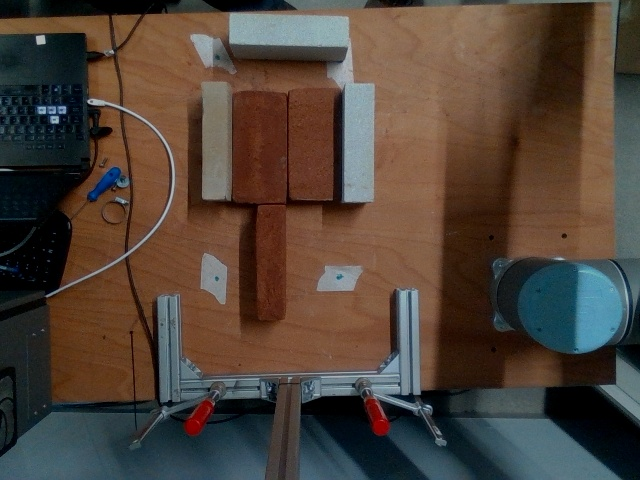brick: (288, 90, 340, 198), (233, 92, 283, 199)
brick-side: (230, 14, 346, 45), (345, 83, 373, 201), (257, 205, 283, 320), (201, 83, 223, 198)
